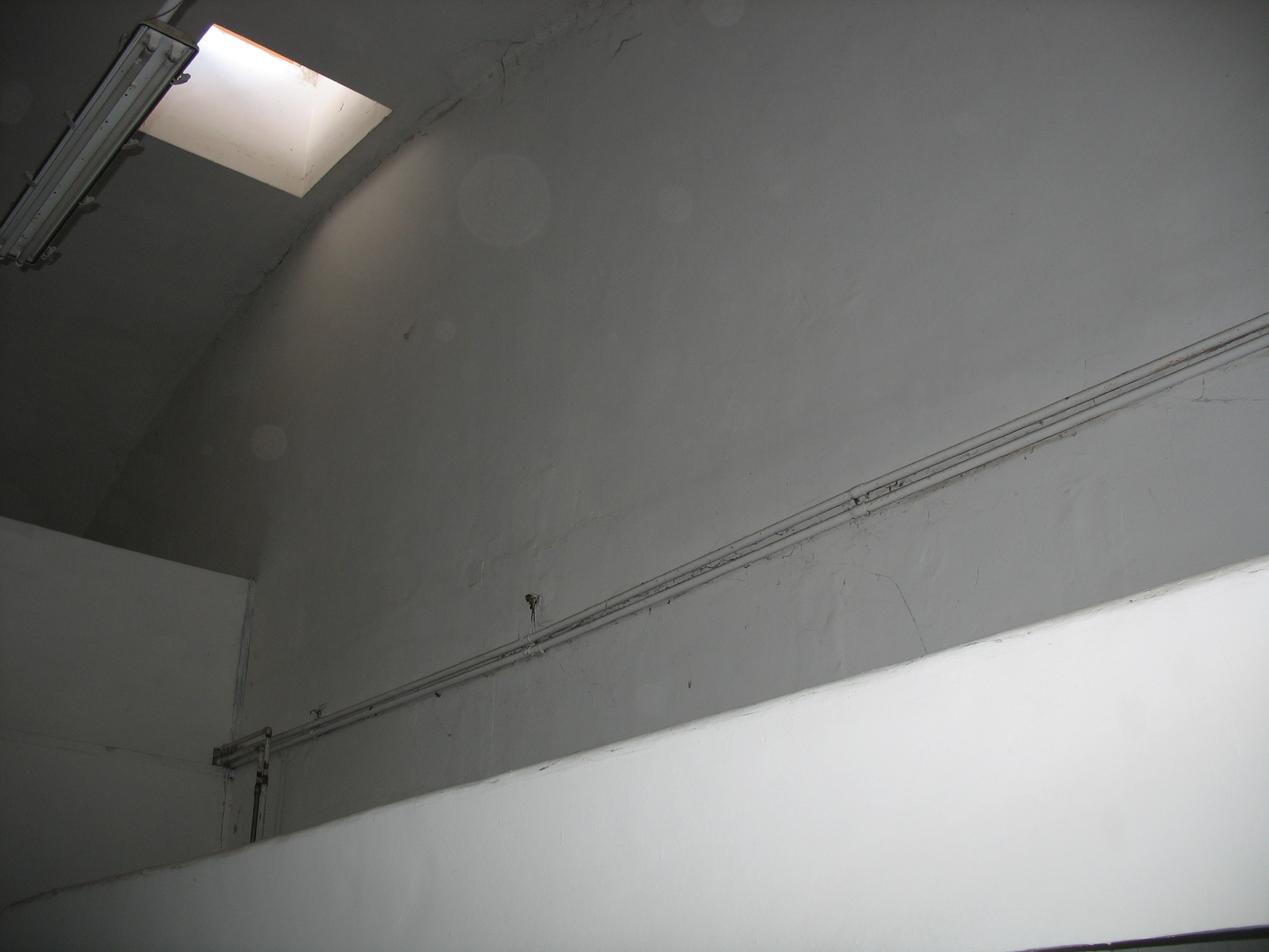Crack: (260, 84, 473, 278), (228, 98, 384, 185)
